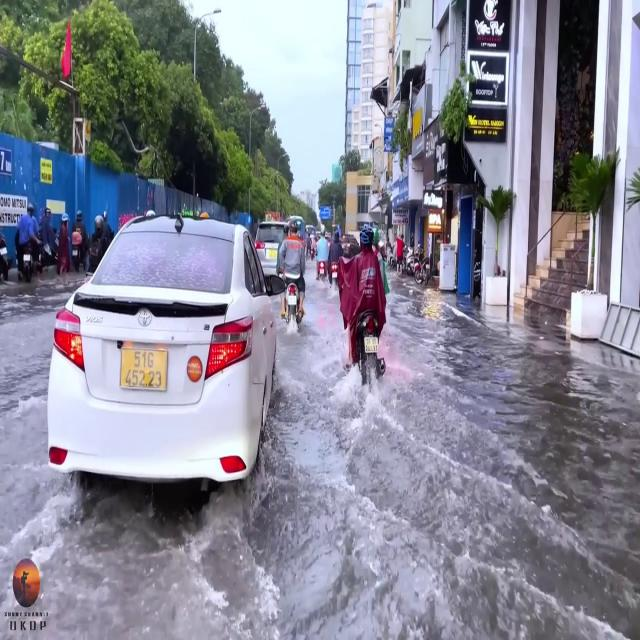bien_trang: (362, 337, 380, 356)
bien_vang: (116, 344, 168, 394)
